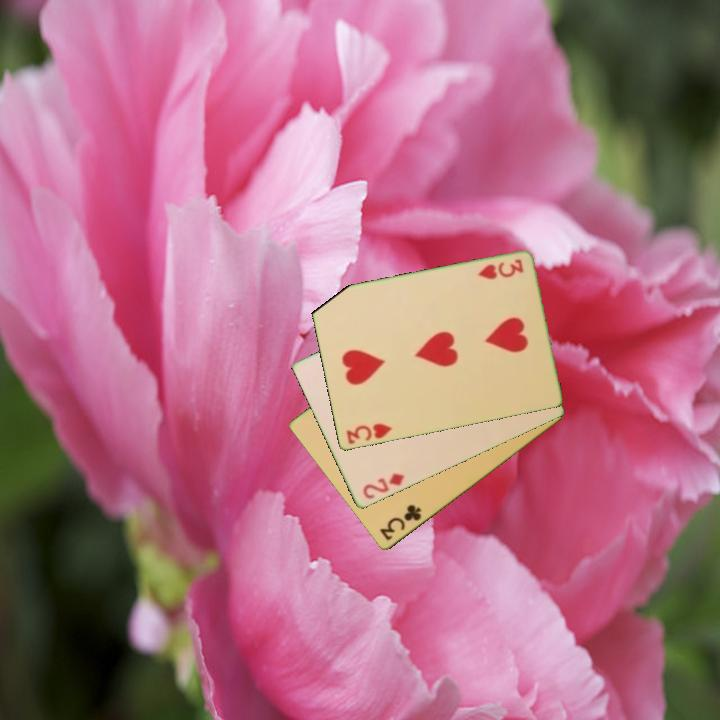2d: (359, 470, 407, 502)
3c: (376, 501, 424, 544)
3h: (342, 420, 394, 447), (474, 256, 526, 283)
